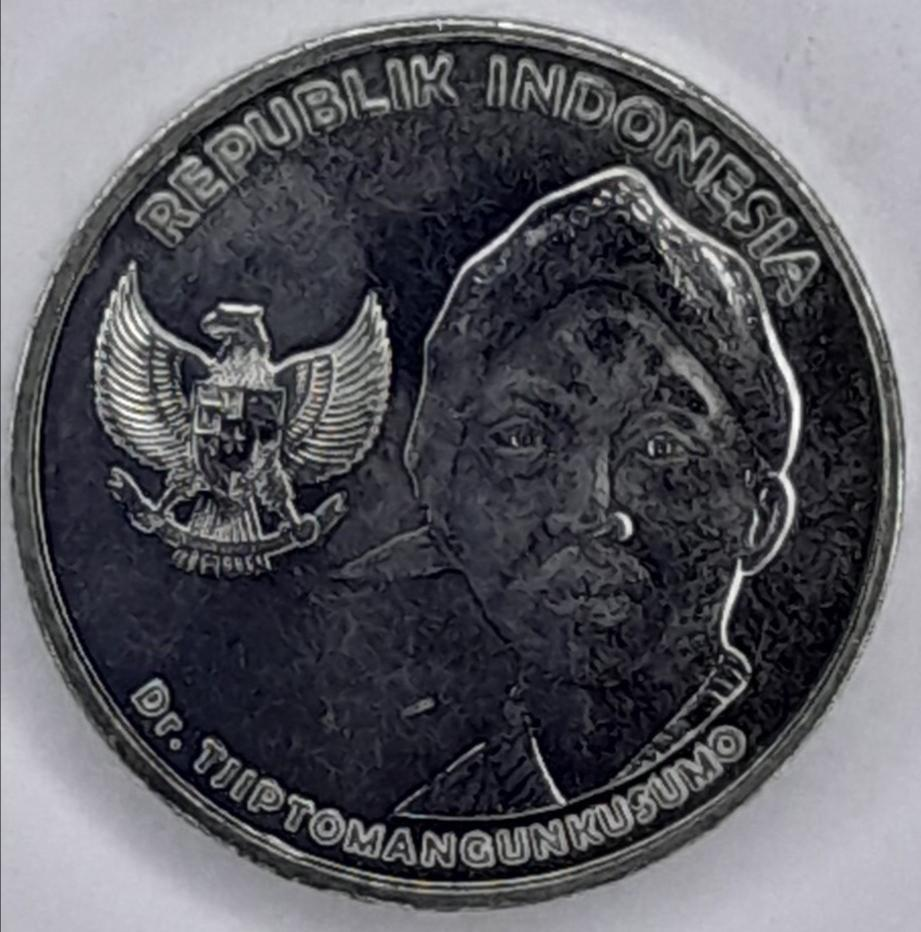coin_200_e2016: (0, 16, 921, 932)
